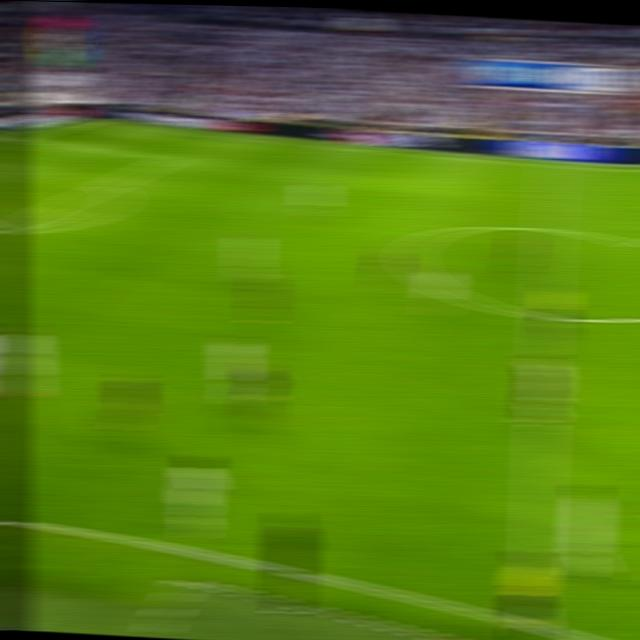corner: (76, 114, 99, 124)
halfcircle_bottom: (532, 303, 557, 326)
halfcircle_top: (536, 220, 562, 238)
midline_bottom_intersection: (520, 614, 550, 637)
midline_top_intersection: (541, 159, 563, 170)
top_arc_area_intersection: (96, 177, 120, 192)
